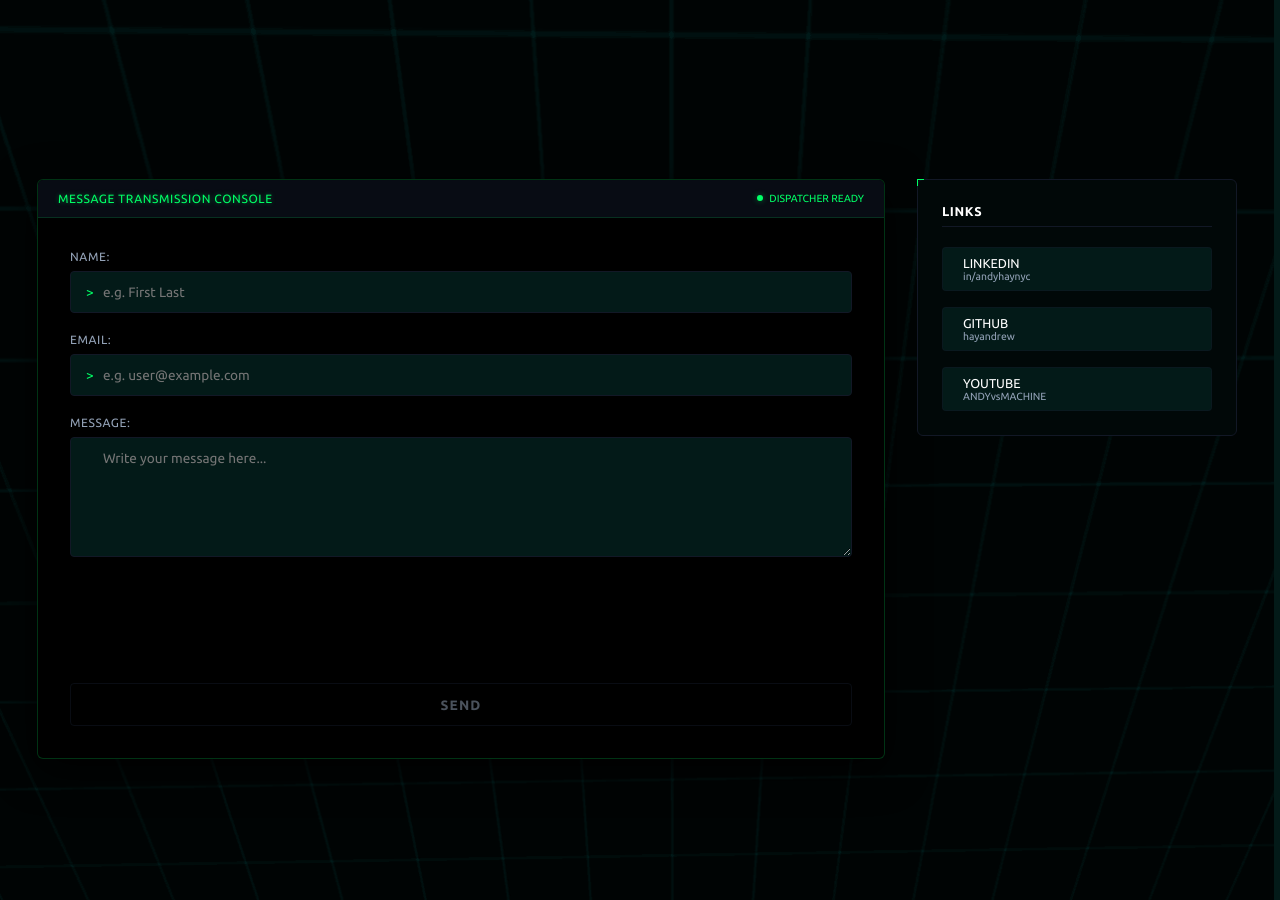
it: ContactPage Component › should submit form data successfully and render the success screen
Type "Andy" into the field labelled "NAME:". click: (461, 292)
box: top-left (70, 271), bottom-right (852, 313)
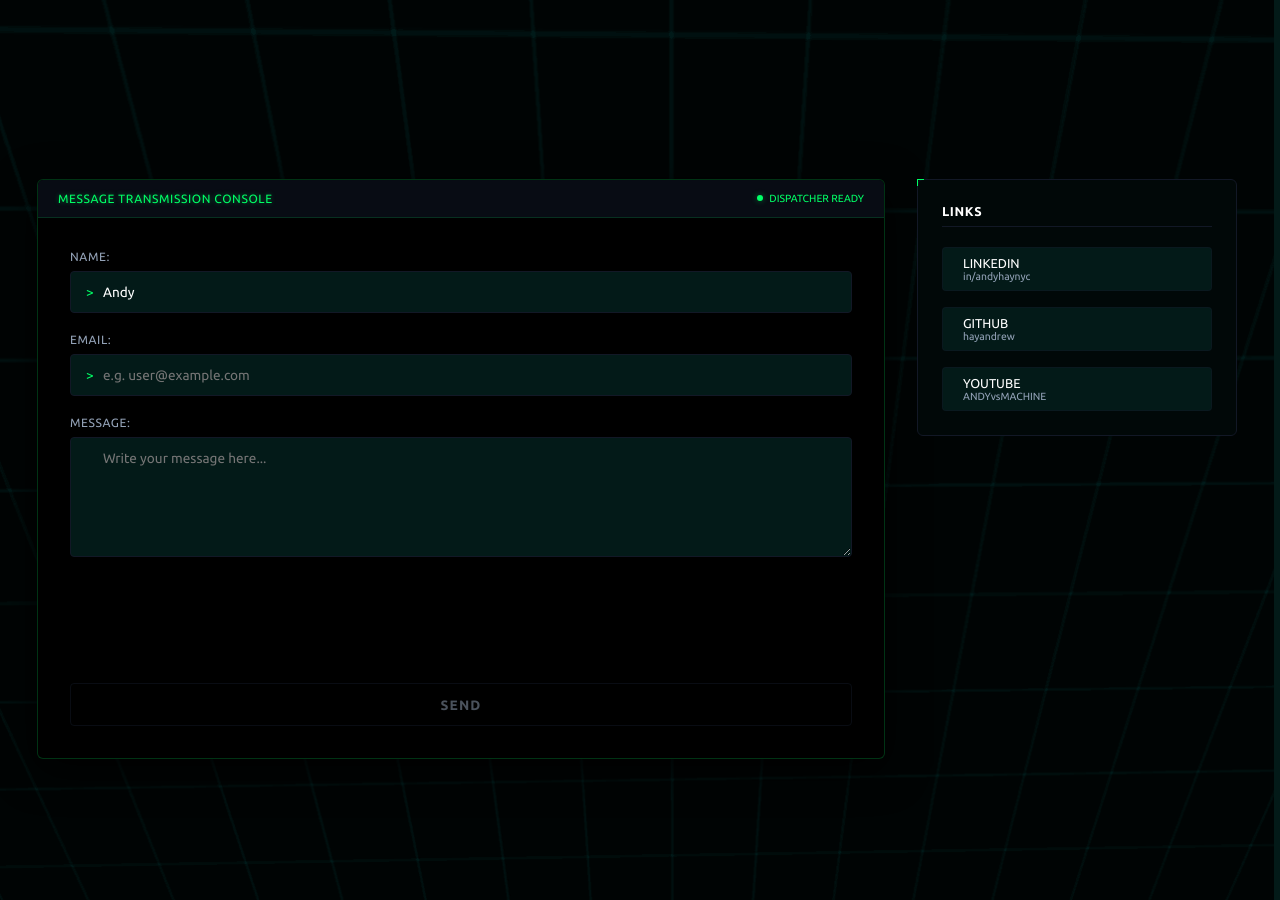
Type "andy@example.com" into the field labelled "EMAIL:". click: (461, 375)
box: top-left (70, 354), bottom-right (852, 396)
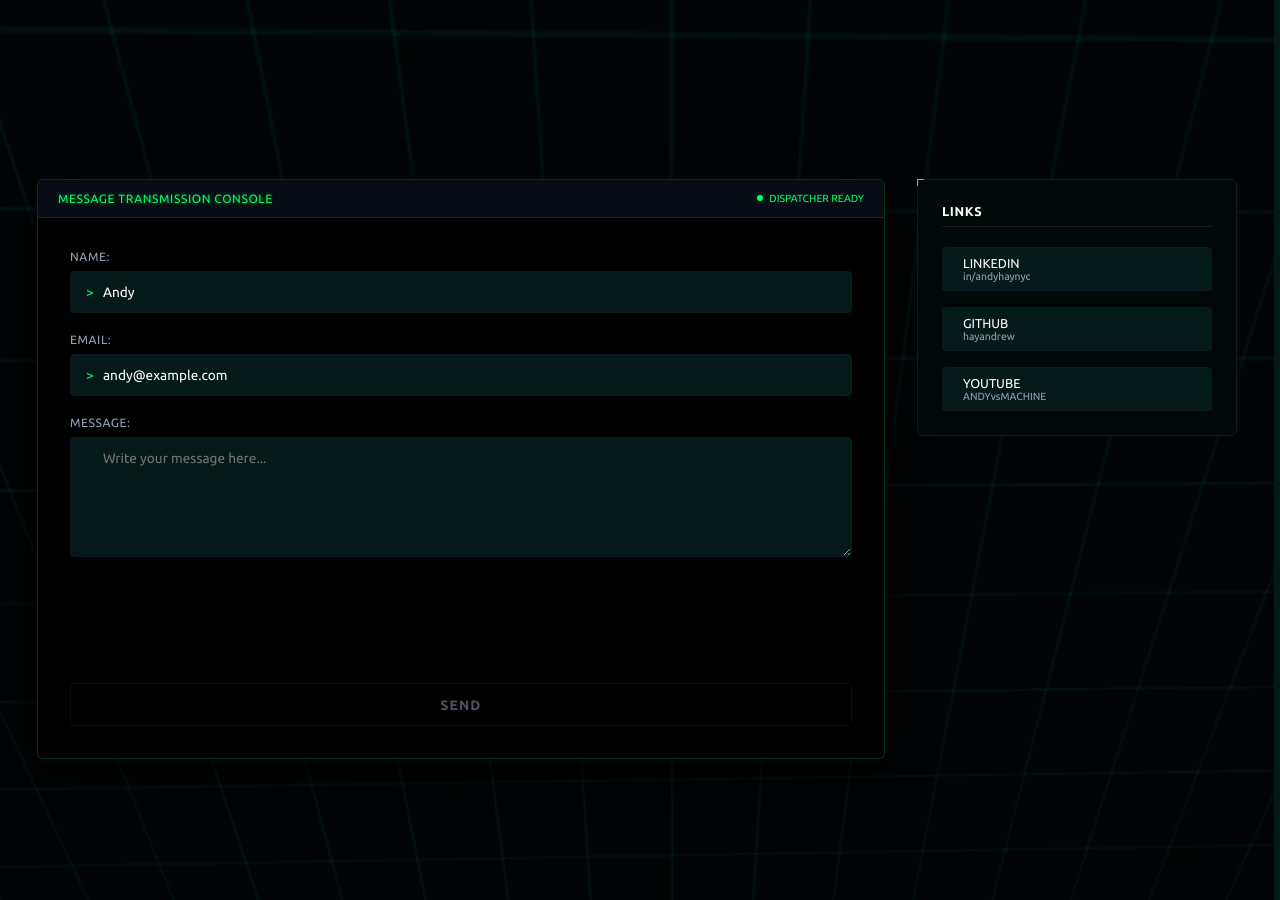
Type "I love your portfolio!" into the text box labelled "MESSAGE:". click: (461, 497)
box: top-left (70, 437), bottom-right (852, 557)
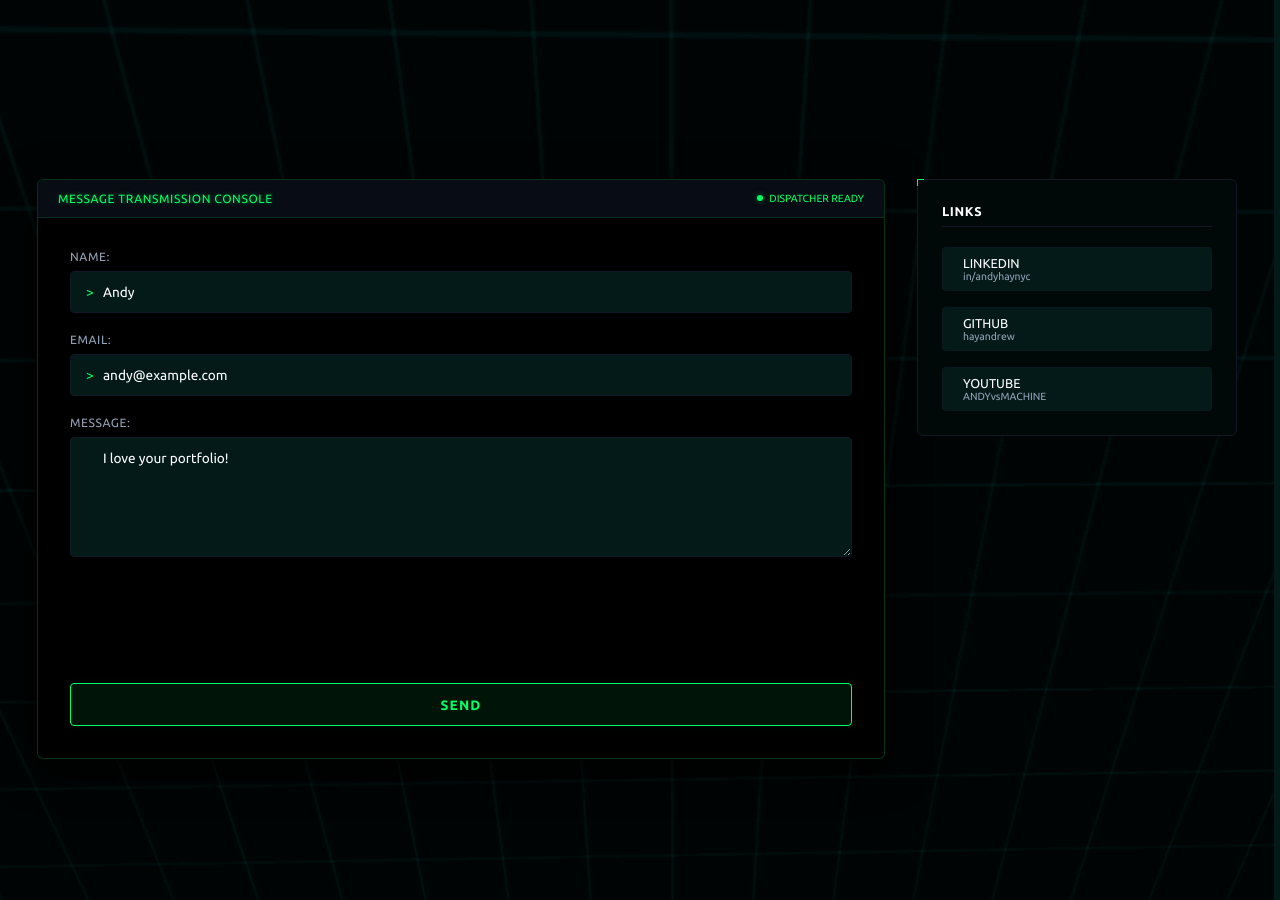
Click the button "SEND". click: (461, 704)
box: top-left (70, 683), bottom-right (852, 726)
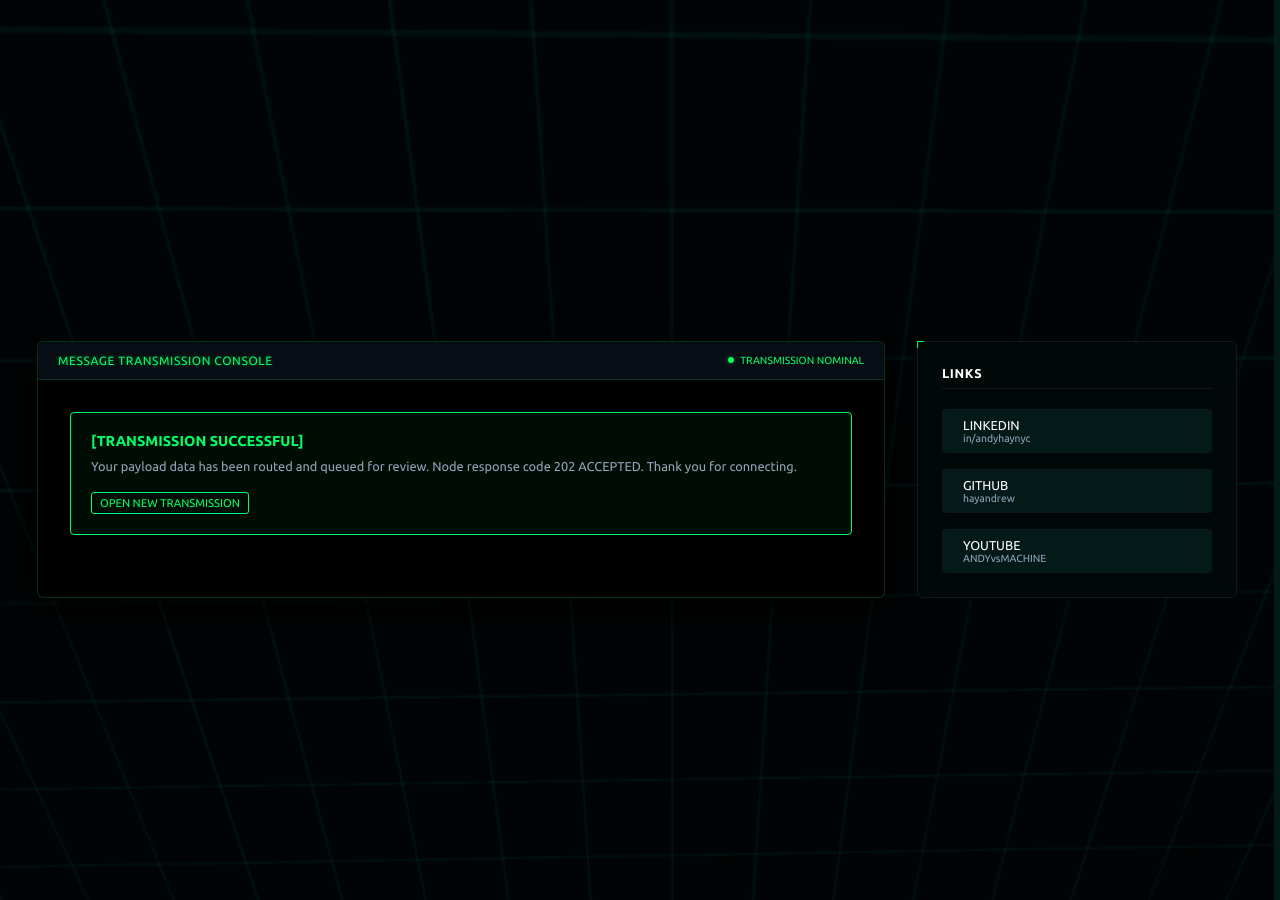
Result: the text "[TRANSMISSION SUCCESSFUL]" is shown at top-left (91, 432), bottom-right (304, 448)
